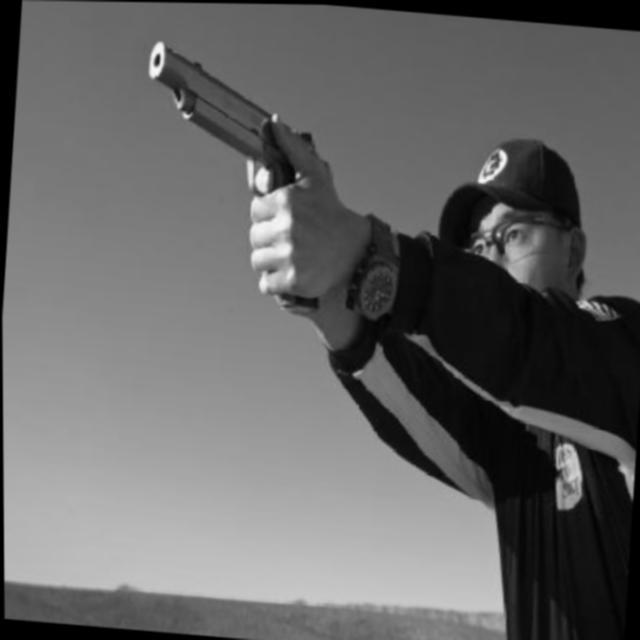weapon: (120, 26, 348, 321)
